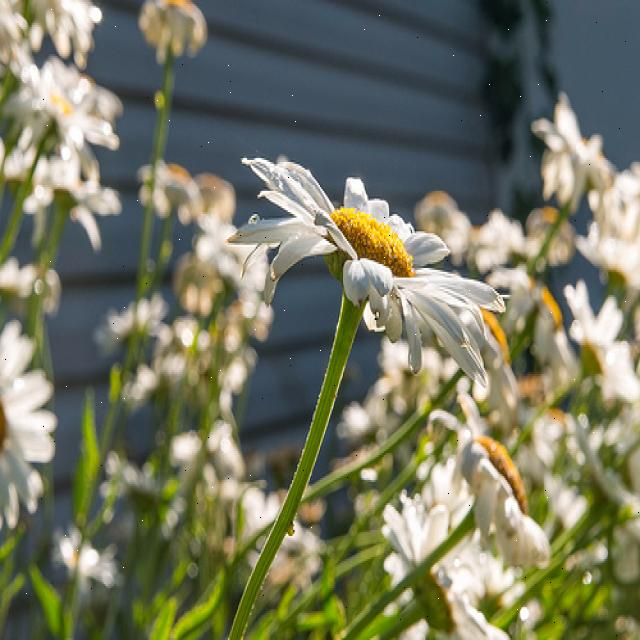Bloomed: (225, 150, 507, 388)
